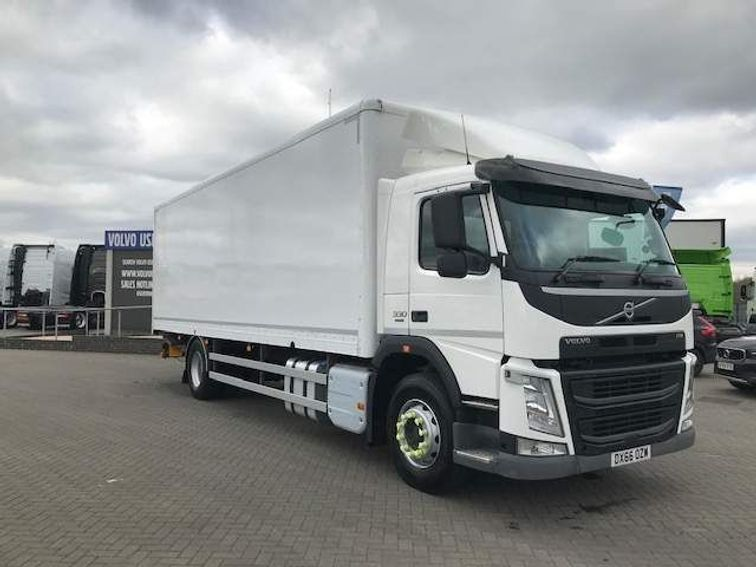Semi: (153, 97, 697, 494)
